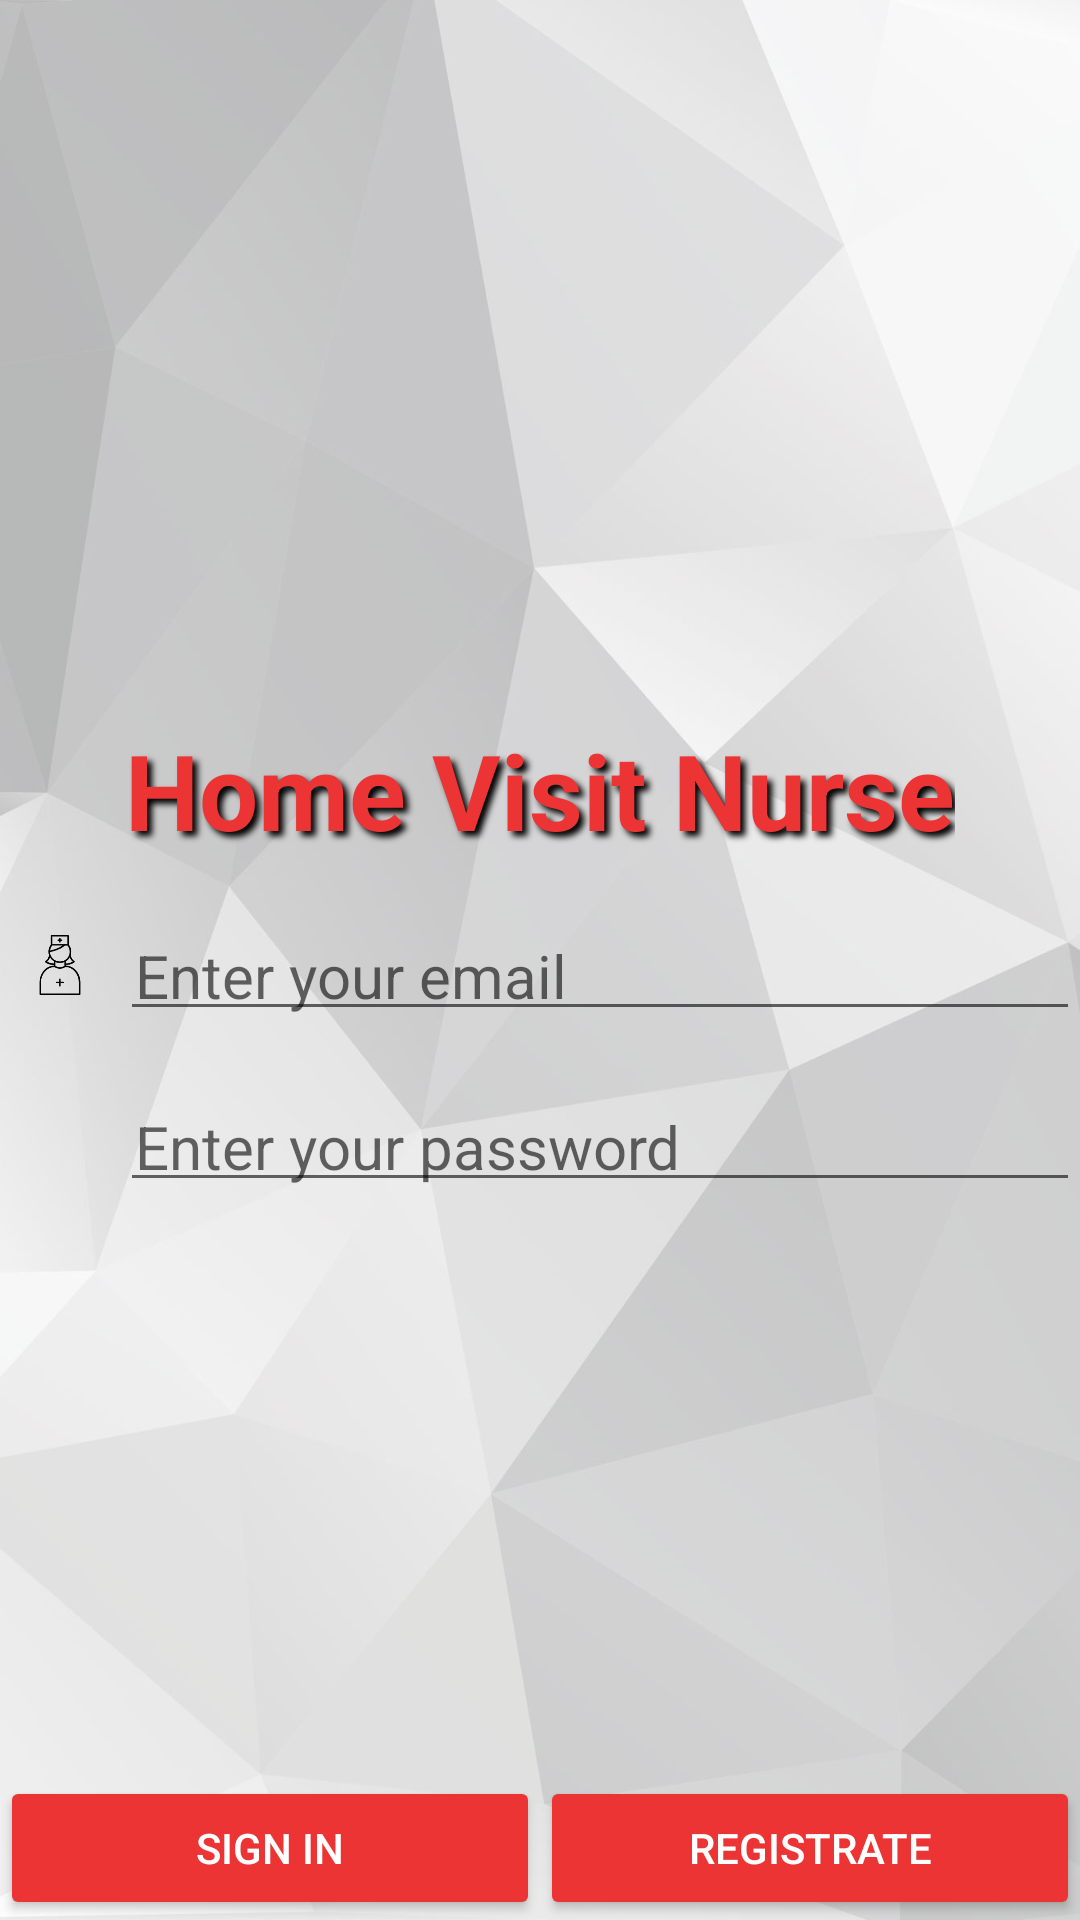

Icon click points for this 1080*1920 phone screenshot, format [x,y]:
signinnurse: [60,965]
